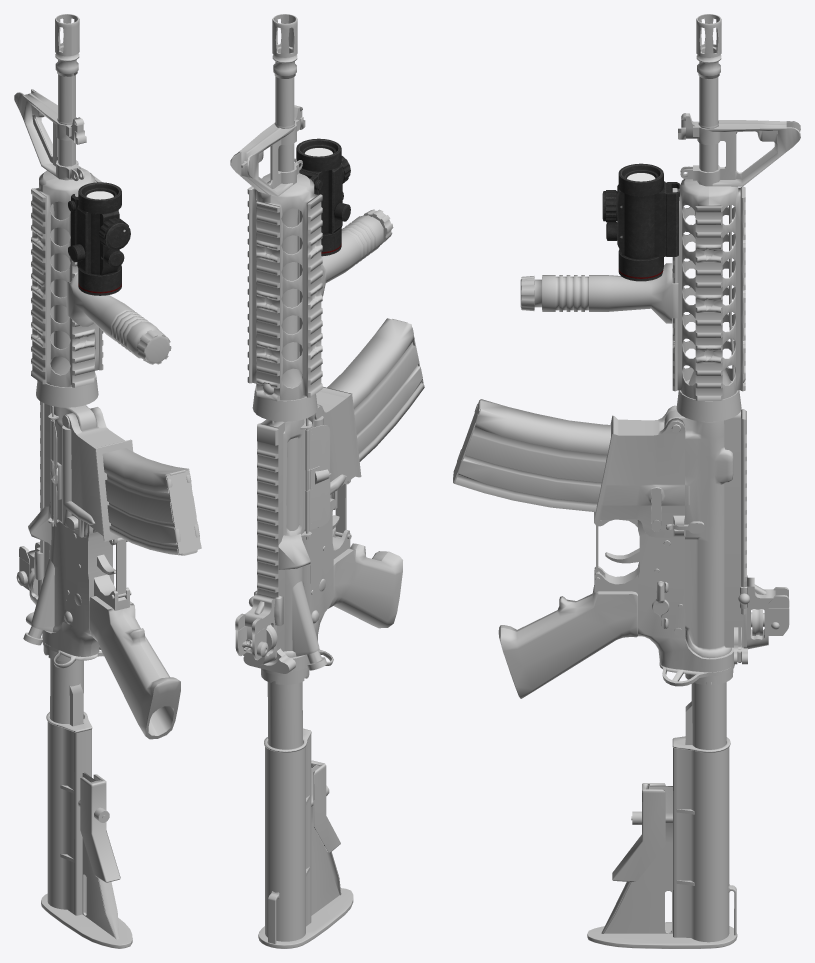
The model's file is mdlAssaultRifle.fbx.
3 renders of one model, left to right at view 1: azimuth 30°, elevation 25°; view 2: azimuth 150°, elevation 25°; view 3: azimuth 270°, elevation 25°, orthographic. The views are drawn at different scales.
Parts seen in each view (by area): view 1: Model_0_Mesh_0_0_004, Model_0_Mesh_5_0_002, Model2, LaserSight, Model_0_Mesh_1_0_003; view 2: Model_0_Mesh_0_0_004, Model_0_Mesh_5_0_002, Model2, LaserSight, Model_0_Mesh_1_0_003; view 3: Model_0_Mesh_0_0_004, Model_0_Mesh_5_0_002, Model2, LaserSight, Model_0_Mesh_1_0_003.
Boxes of the visible parts, left/top/right/bottom form: Model_0_Mesh_0_0_004: left=14, top=14, right=171, bottom=948; Model_0_Mesh_5_0_002: left=102, top=448, right=201, bottom=555; Model2: left=89, top=596, right=180, bottom=739; LaserSight: left=68, top=182, right=130, bottom=295; Model_0_Mesh_1_0_003: left=16, top=542, right=42, bottom=604; Model_0_Mesh_0_0_004: left=230, top=14, right=393, bottom=948; Model_0_Mesh_5_0_002: left=327, top=318, right=424, bottom=461; Model2: left=328, top=543, right=402, bottom=628; LaserSight: left=296, top=138, right=350, bottom=256; Model_0_Mesh_1_0_003: left=235, top=590, right=283, bottom=665; Model_0_Mesh_0_0_004: left=520, top=14, right=800, bottom=948; Model_0_Mesh_5_0_002: left=453, top=399, right=661, bottom=513; Model2: left=498, top=585, right=637, bottom=698; LaserSight: left=602, top=163, right=679, bottom=281; Model_0_Mesh_1_0_003: left=738, top=575, right=789, bottom=649.
Size of the model in its own units: 1012 by 11499 by 3946.
